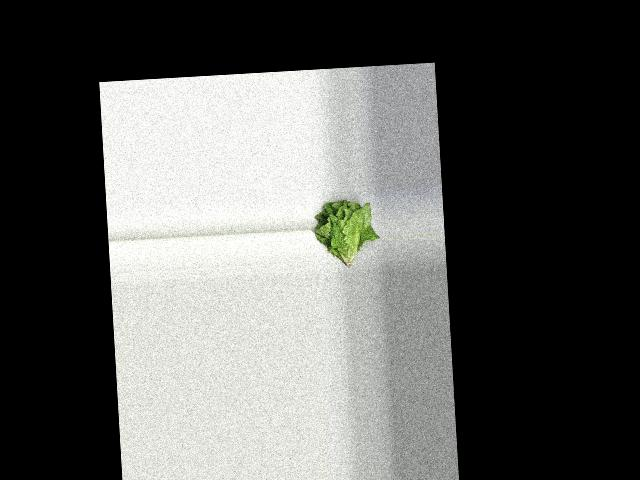lettuce: (312, 197, 380, 269)
